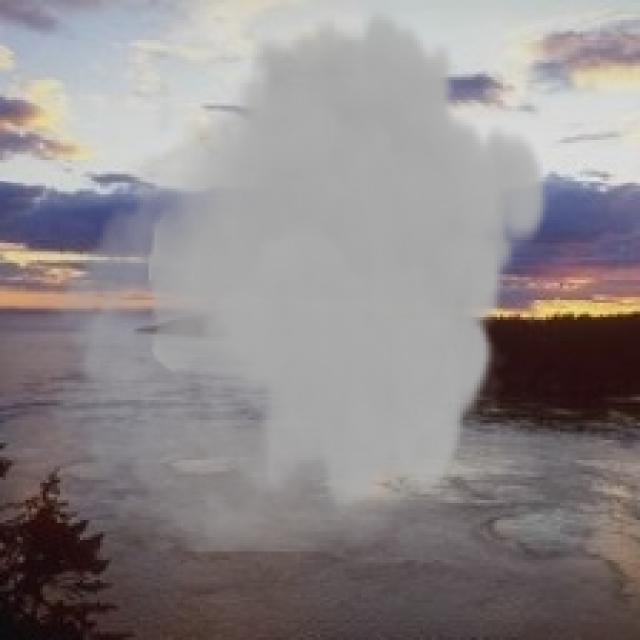Smoke: (37, 6, 552, 552)
